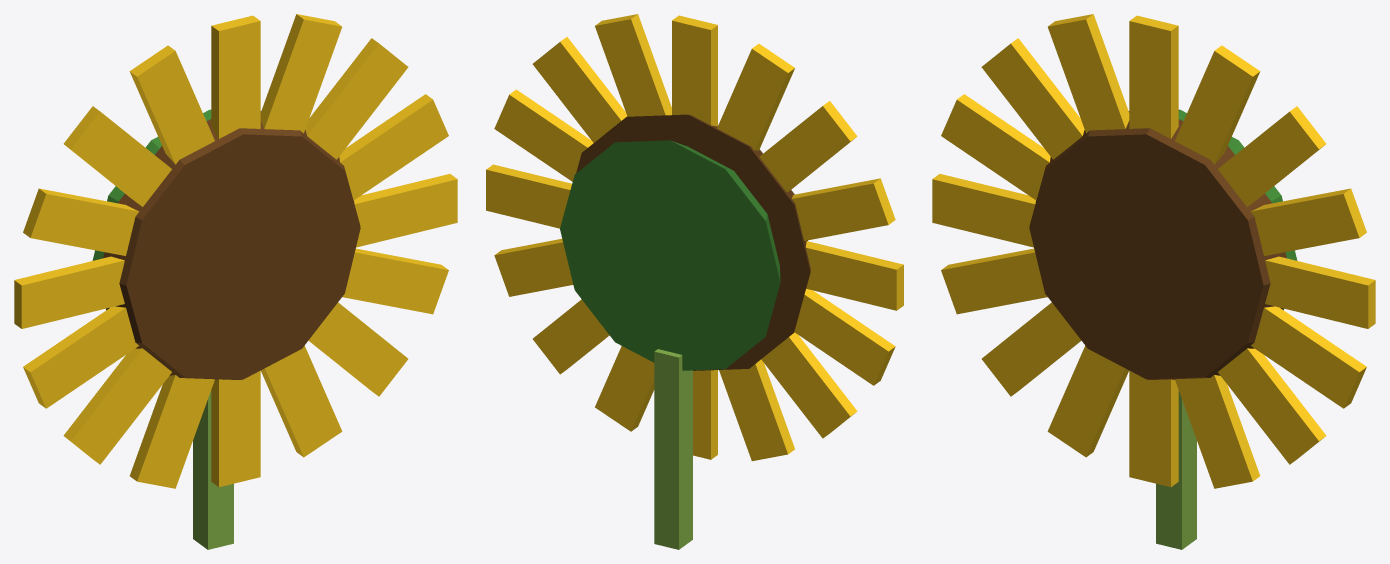
The model's file is sunflower_item.obj.
3 views of the same model, side by side, from view 1: azimuth 30°, elevation 25°; view 2: azimuth 150°, elevation 25°; view 3: azimuth 330°, elevation 25° (orthographic). The views are drawn at different scales.
Visible parts, largest first — view 1: item; view 2: item; view 3: item.
Part boxes in pixels (box(x1,y1,x2,y2)): item: box(14, 14, 457, 549); item: box(486, 14, 903, 549); item: box(932, 14, 1375, 549).
Bounding box in the file's own units: 0.67 × 0.785 × 0.1.
